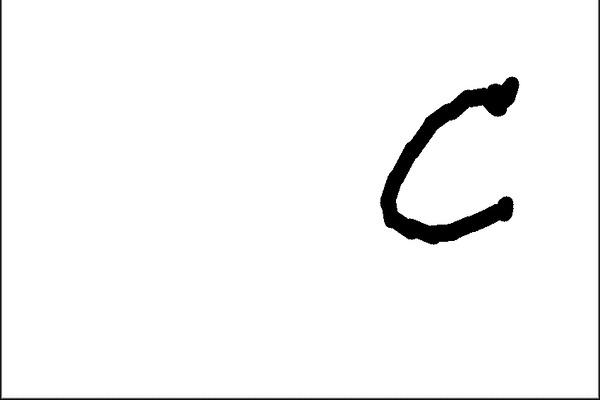C: (374, 70, 527, 246)
